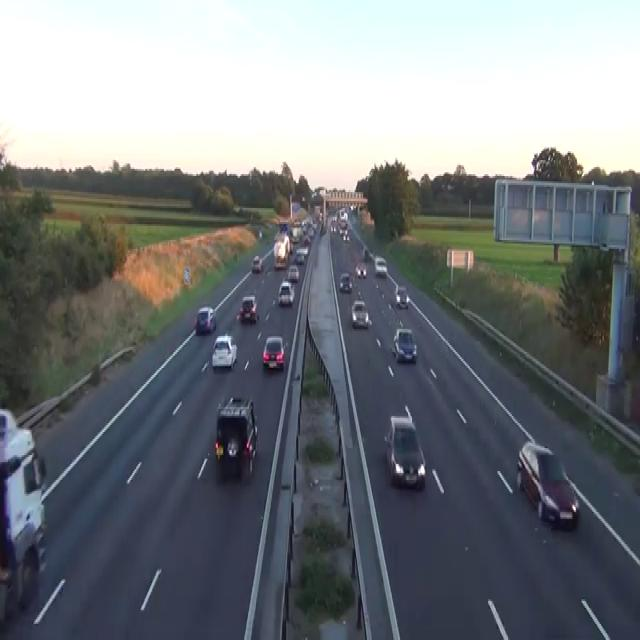Car: (516, 441, 579, 530), (384, 412, 426, 489), (211, 332, 237, 370), (391, 327, 417, 363), (262, 334, 285, 370), (195, 306, 216, 334), (239, 295, 258, 322), (351, 299, 369, 327), (278, 279, 294, 306), (395, 284, 409, 308), (374, 256, 387, 276), (339, 272, 352, 292), (251, 254, 263, 272), (287, 263, 299, 281), (274, 252, 286, 268), (295, 247, 306, 263), (355, 263, 366, 277), (441, 181, 454, 192), (284, 235, 292, 252), (279, 222, 288, 233), (319, 222, 326, 235), (362, 247, 368, 260), (343, 231, 350, 242), (303, 235, 310, 245), (233, 204, 240, 213), (258, 230, 262, 238)
Truck: (0, 407, 46, 622), (214, 395, 257, 478), (273, 231, 289, 269)
